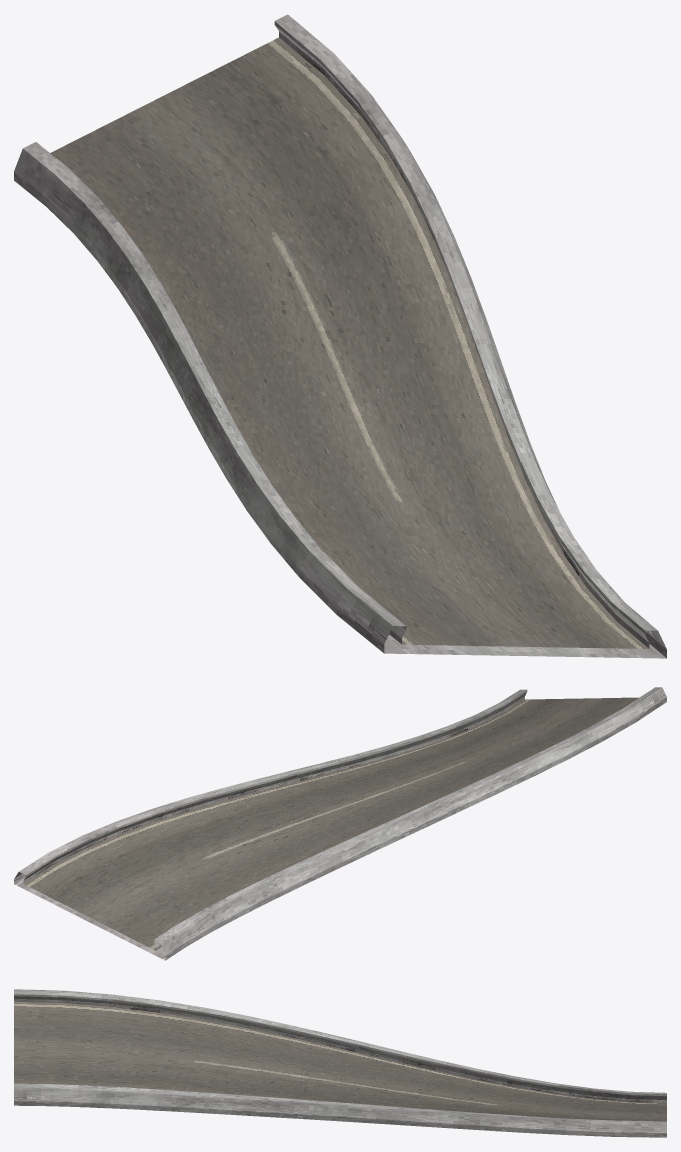
Rendered from road-Chicane-HalfBankedRight-HalfBankedLeft-Even-Right1-Size4.glb.
3 views of the same model, one above another, from view 1: azimuth 30°, elevation 25°; view 2: azimuth 150°, elevation 25°; view 3: azimuth 270°, elevation 25° (orthographic). The views are drawn at different scales.
Parts seen in each view (by area): view 1: road-Chicane-HalfBankedRight-HalfBankedLeft-Even-Right1-Size; view 2: road-Chicane-HalfBankedRight-HalfBankedLeft-Even-Right1-Size; view 3: road-Chicane-HalfBankedRight-HalfBankedLeft-Even-Right1-Size.
Boxes of the visible parts, bbox=[...] form: road-Chicane-HalfBankedRight-HalfBankedLeft-Even-Right1-Size: bbox=[14, 14, 666, 658]; road-Chicane-HalfBankedRight-HalfBankedLeft-Even-Right1-Size: bbox=[14, 687, 666, 960]; road-Chicane-HalfBankedRight-HalfBankedLeft-Even-Right1-Size: bbox=[14, 989, 666, 1137].
Size of the model in its own units: 2 by 0.3359 by 4.
Materials: 2 (2 with a texture image).
